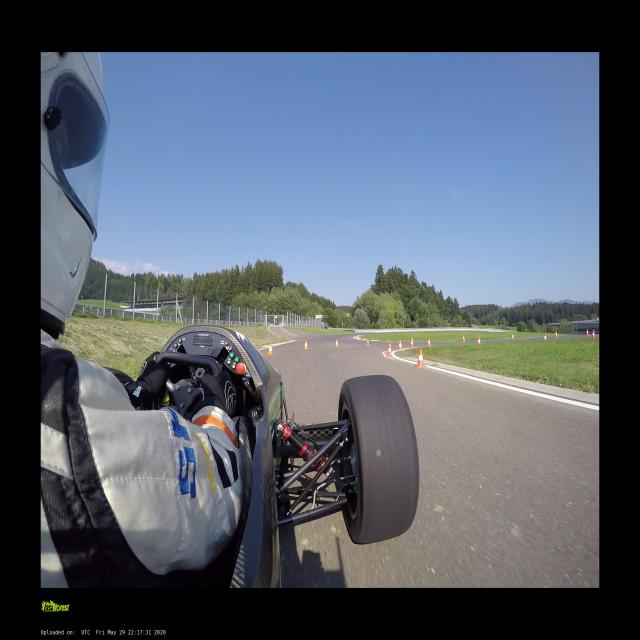orange_cone: (416, 348, 425, 367), (386, 341, 392, 357), (268, 344, 273, 354), (398, 340, 402, 350), (427, 338, 431, 347), (304, 340, 308, 349), (335, 339, 339, 346), (411, 339, 414, 348), (411, 336, 414, 345), (592, 330, 595, 338), (586, 329, 589, 336), (511, 333, 514, 339), (462, 335, 465, 341), (366, 339, 369, 345), (544, 333, 546, 341), (478, 337, 480, 344), (555, 331, 557, 337)
